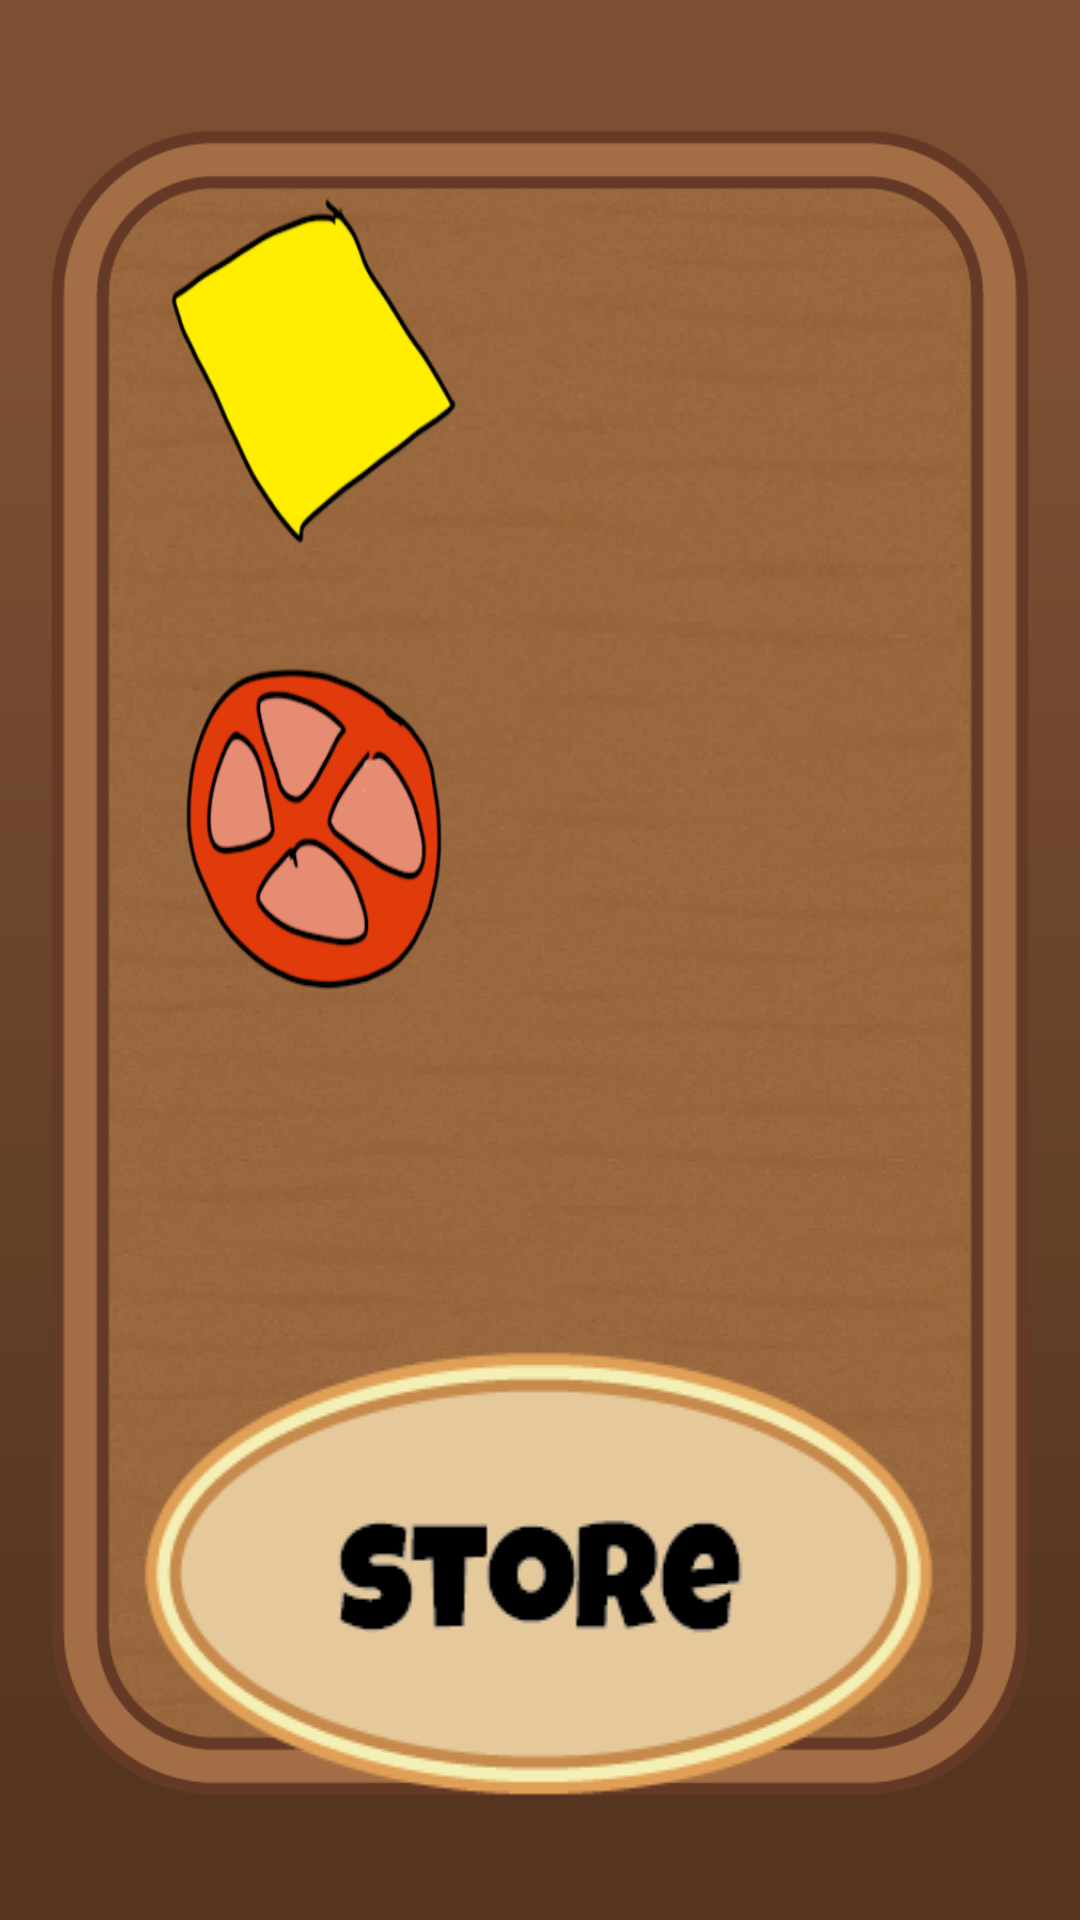

Icon click points for this 1080 x 1920 phone screenshot, format point (x, y):
cheese: point (313, 371)
tomato: point (314, 829)
